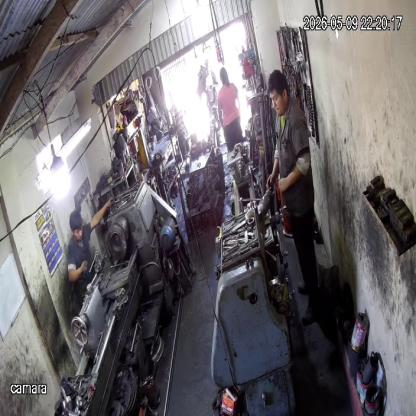sin_lentes: (266, 88, 282, 106)
